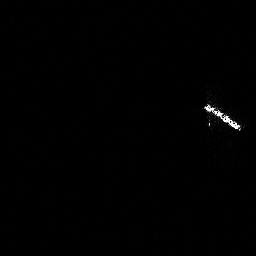ship: (202, 103, 242, 133)
